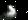person: (8, 6, 17, 18)
